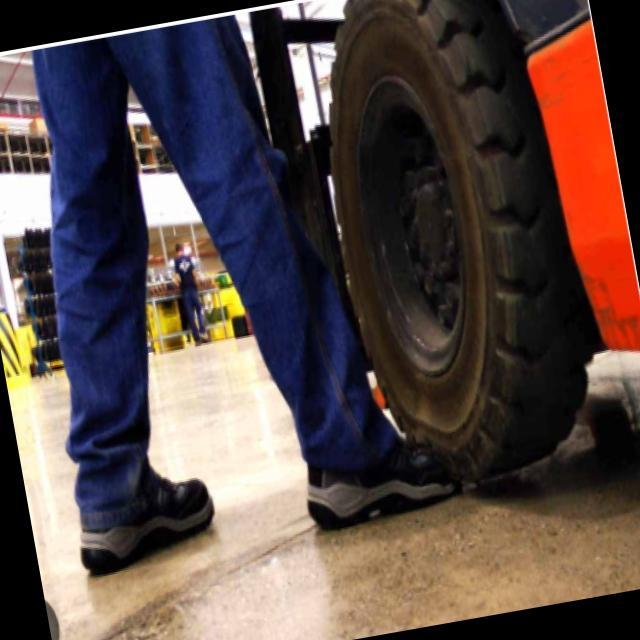boots: (60, 384, 477, 580)
